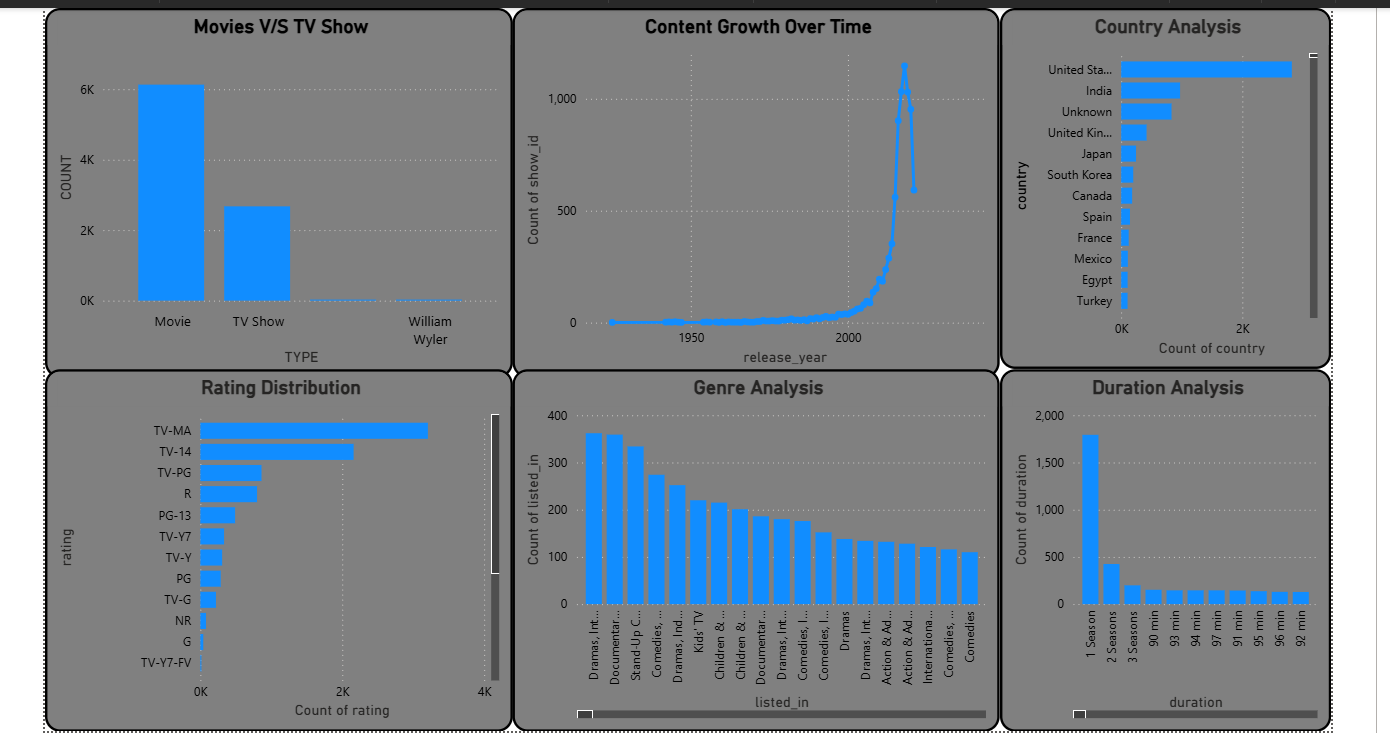

What the dashboard file says about the page in this screenshot:
{"tool":"powerbi","page":{"name":"Page 1","canvas":[1280,720],"ordinal":0},"visuals":[{"type":"clusteredColumnChart","title":"Movies V/S TV Show","fields":{"Category":["Cleaned_netflix_dataset.type"],"Y":["CountNonNull(Cleaned_netflix_dataset.show_id)"]},"box":[0,0,465.2,368.2],"z":0},{"type":"lineChart","title":"Content Growth Over Time","fields":{"Y":["CountNonNull(Cleaned_netflix_dataset.show_id)"],"Category":["Cleaned_netflix_dataset.release_year"]},"box":[465.2,0,485.1,368.2],"z":1},{"type":"barChart","title":"Rating Distribution","fields":{"Category":["Cleaned_netflix_dataset.rating"],"Y":["CountNonNull(Cleaned_netflix_dataset.rating)"]},"box":[0,359.5,465.2,360.7],"z":2},{"type":"columnChart","title":"Genre Analysis","fields":{"Category":["Cleaned_netflix_dataset.listed_in"],"Y":["CountNonNull(Cleaned_netflix_dataset.listed_in)"]},"box":[465.2,359.5,485.1,360.7],"z":3},{"type":"columnChart","title":"Duration Analysis","fields":{"Category":["Cleaned_netflix_dataset.duration"],"Y":["CountNonNull(Cleaned_netflix_dataset.duration)"]},"box":[950.4,359.5,329.6,360.7],"z":4},{"type":"barChart","title":"Country Analysis","fields":{"Category":["Cleaned_netflix_dataset.country"],"Y":["CountNonNull(Cleaned_netflix_dataset.country)"]},"box":[950.4,0,329.6,359.5],"z":5}]}

Visuals, with their boxes in screenshot pixels (x1, y1, x2, y2):
"Movies V/S TV Show" clusteredColumnChart: (43,4,509,372)
"Content Growth Over Time" lineChart: (509,4,995,372)
"Rating Distribution" barChart: (43,364,509,725)
"Genre Analysis" columnChart: (509,364,995,725)
"Duration Analysis" columnChart: (995,364,1325,725)
"Country Analysis" barChart: (995,4,1325,364)
